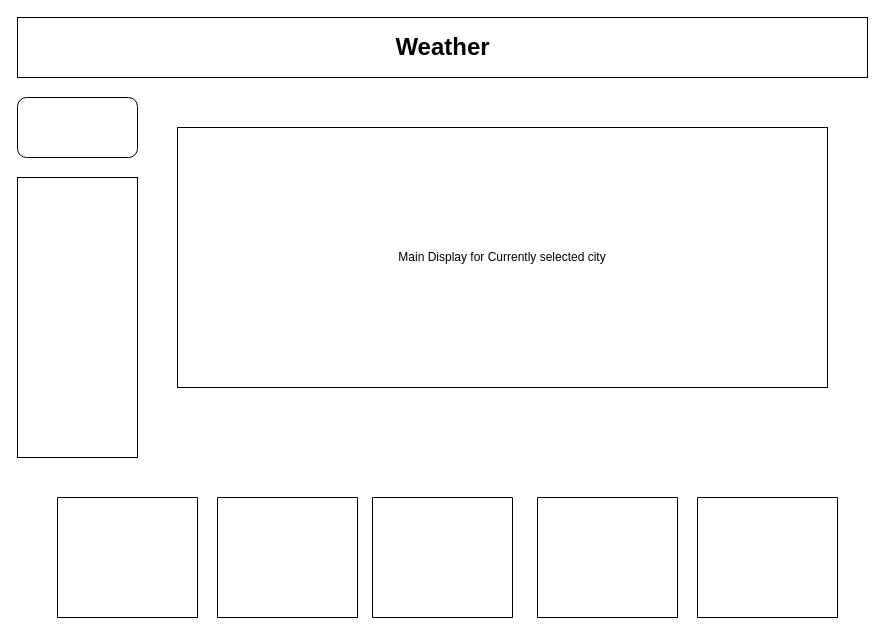
The diagram is 885 pixels wide and 635 high, and some of its shapes have lost their labels. Here are the shapes that lost their labels. From the top down, the centre of each, then its label:
[77,127]: search
[77,317]: Saved cities already searched
